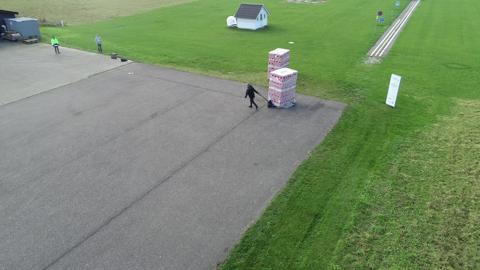RockwoolPallet: (268, 45, 291, 82)
